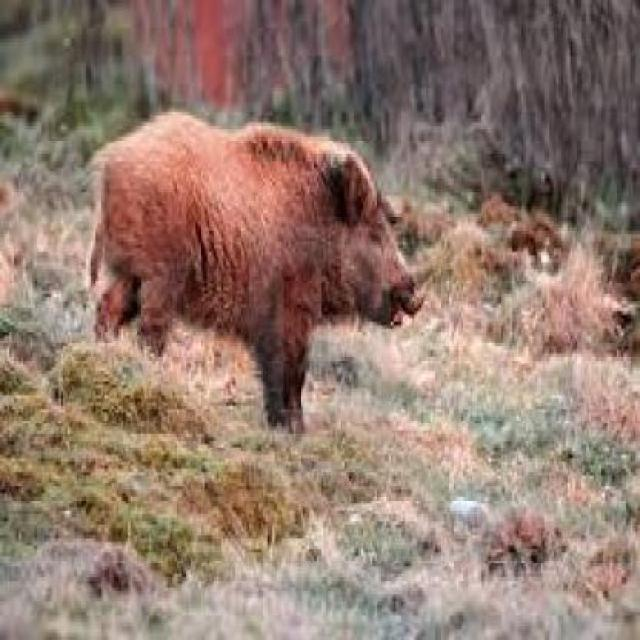wildboar: (82, 102, 426, 443)
